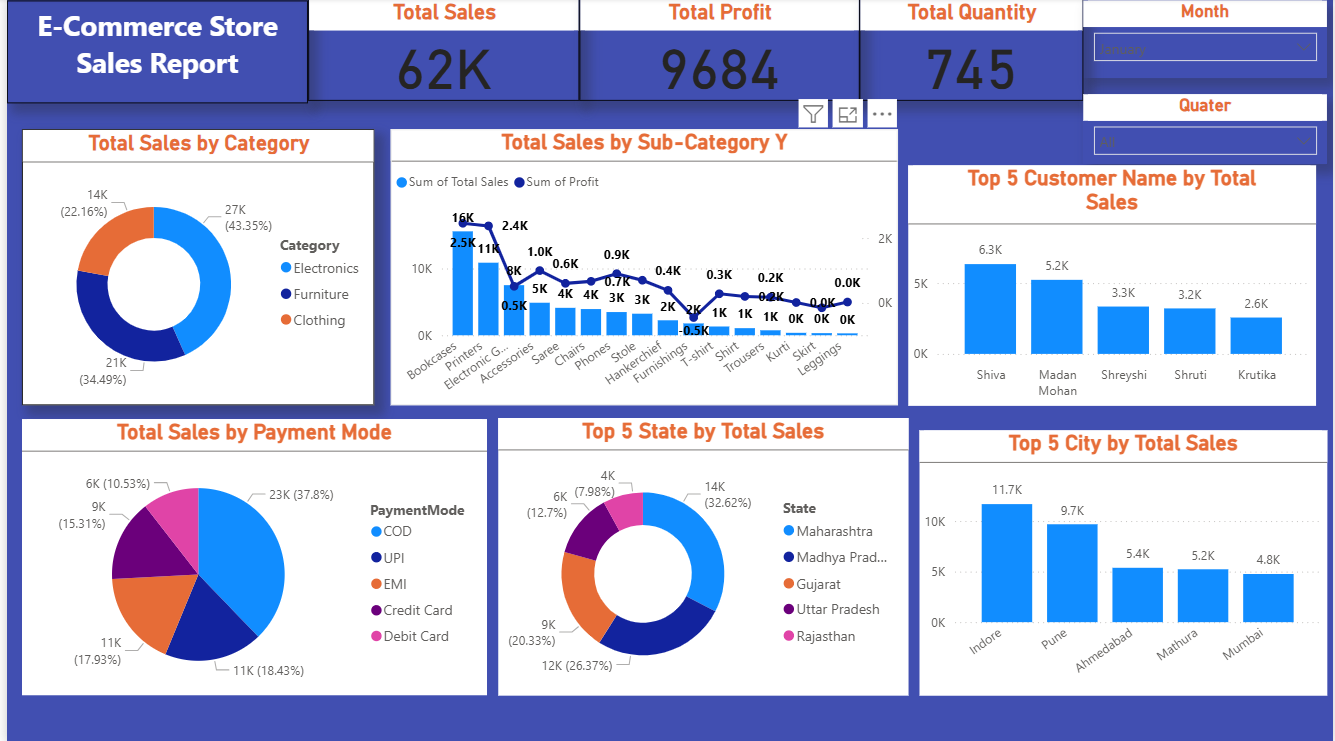

Layout of this report page (visuals, bound fields, positions):
{"tool":"powerbi","page":{"name":"Page 1","canvas":[1280,720],"ordinal":0},"visuals":[{"type":"textbox","box":[0,2.4,290.8,98.9],"z":0},{"type":"card","title":"Total Sales","fields":{"Values":["E-Commerce Dataset.Total Sales"]},"box":[290.8,0,261.8,98.9],"z":1000},{"type":"card","title":"Total Profit","fields":{"Values":["E-Commerce Dataset.Profit"]},"box":[552.5,0,270.2,98.9],"z":2000},{"type":"card","title":"Total Quantity","fields":{"Values":["E-Commerce Dataset.Quantity"]},"box":[822.8,0,216,98.9],"z":3000},{"type":"slicer","title":"Month","fields":{"Values":["E-Commerce Dataset (2).Order Date.Variation.Date Hierarchy.Month"]},"box":[1038.7,2.4,235.3,74.8],"z":4000},{"type":"slicer","title":"Quater","fields":{"Values":["E-Commerce Dataset (2).Order Date.Variation.Date Hierarchy.Month"]},"box":[1038.7,92.9,235.3,67.6],"z":5000},{"type":"donutChart","title":"Total Sales by Category","fields":{"Y":["E-Commerce Dataset.Total Sales"],"Category":["E-Commerce Dataset.Category"]},"box":[14.5,126.7,340.2,266.6],"z":6000},{"type":"lineStackedColumnComboChart","title":"Total Sales by Sub-Category Y","fields":{"Y":["E-Commerce Dataset.Total Sales"],"Category":["E-Commerce Dataset.Sub-Category"],"Y2":["E-Commerce Dataset.Profit"]},"box":[370.4,126.7,489.8,266.6],"z":7000},{"type":"clusteredColumnChart","title":"Top 5 Customer Name by Total Sales","fields":{"Category":["E-Commerce Dataset (2).CustomerName"],"Y":["E-Commerce Dataset.Total Sales"]},"box":[869.8,161.7,393.3,231.6],"z":8000},{"type":"pieChart","title":"Total Sales by Payment Mode","fields":{"Y":["E-Commerce Dataset.Total Sales"],"Category":["E-Commerce Dataset.PaymentMode"]},"box":[14.5,406.6,448.8,266.6],"z":9000},{"type":"donutChart","title":"Top 5 State by Total Sales","fields":{"Category":["E-Commerce Dataset (2).State"],"Y":["E-Commerce Dataset.Total Sales"]},"box":[474.1,405.4,395.7,267.8],"z":10000},{"type":"clusteredColumnChart","title":"Top 5 City by Total Sales","fields":{"Category":["E-Commerce Dataset (2).City"],"Y":["E-Commerce Dataset.Total Sales"]},"box":[880.7,417.4,393.3,255.8],"z":11000}]}

Visuals, with their boxes in screenshot pixels (x1, y1, x2, y2), scaled from the page's 1280x720 canvas onto the 1335x741 screenshot:
textbox: (x1=0, y1=2, x2=303, y2=104)
"Total Sales" card: (x1=303, y1=0, x2=576, y2=102)
"Total Profit" card: (x1=576, y1=0, x2=858, y2=102)
"Total Quantity" card: (x1=858, y1=0, x2=1083, y2=102)
"Month" slicer: (x1=1083, y1=2, x2=1329, y2=79)
"Quater" slicer: (x1=1083, y1=96, x2=1329, y2=165)
"Total Sales by Category" donutChart: (x1=15, y1=130, x2=370, y2=405)
"Total Sales by Sub-Category Y" lineStackedColumnComboChart: (x1=386, y1=130, x2=897, y2=405)
"Top 5 Customer Name by Total Sales" clusteredColumnChart: (x1=907, y1=166, x2=1317, y2=405)
"Total Sales by Payment Mode" pieChart: (x1=15, y1=418, x2=483, y2=693)
"Top 5 State by Total Sales" donutChart: (x1=494, y1=417, x2=907, y2=693)
"Top 5 City by Total Sales" clusteredColumnChart: (x1=919, y1=430, x2=1329, y2=693)
